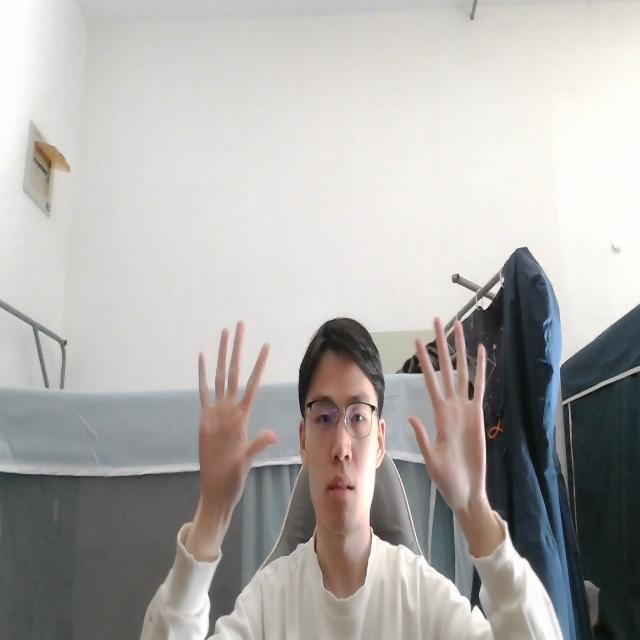five: (192, 314, 280, 530), (407, 314, 488, 517)
